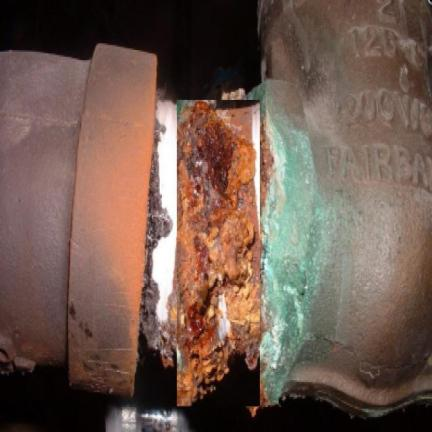besi_tidak_karat: (259, 0, 431, 414), (0, 52, 88, 371), (250, 80, 317, 403)
karat: (68, 44, 156, 396), (173, 101, 259, 405), (141, 120, 171, 337)
